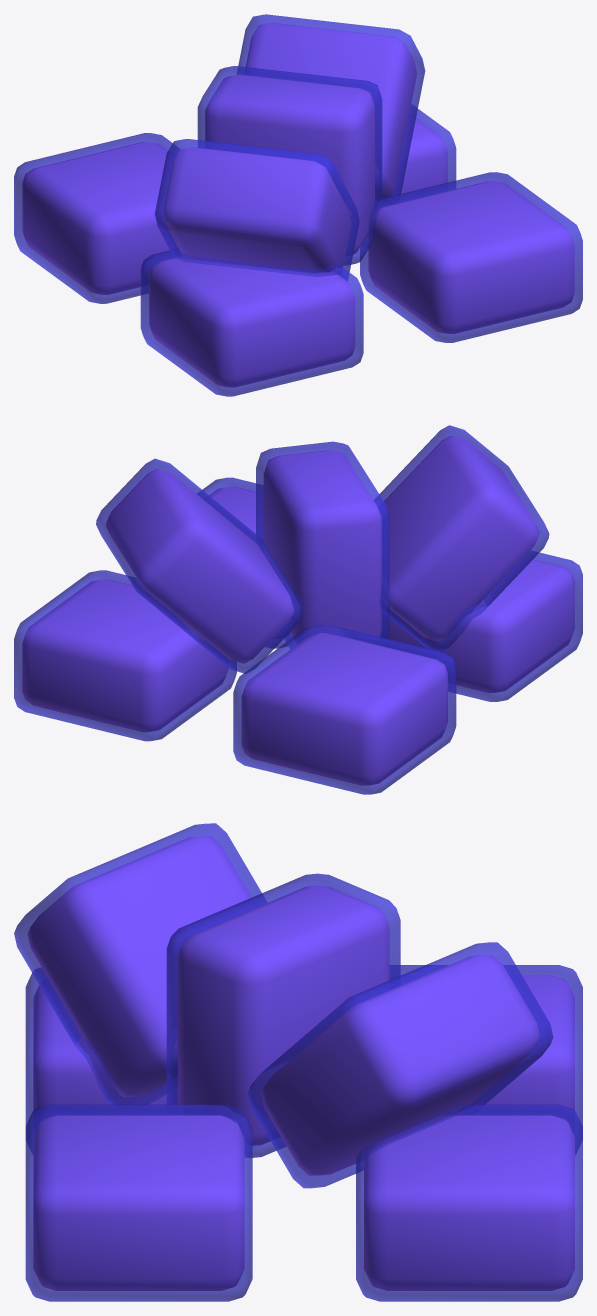
The model's file is ico_cubes.fbx.
The picture shows the model from 3 angles, top to bottom: view 1: azimuth 30°, elevation 25°; view 2: azimuth 150°, elevation 25°; view 3: azimuth 270°, elevation 25°; orthographic projection. The views are drawn at different scales.
Parts seen in each view (by area): view 1: Short_Cube_Jelly_3.001, Short_Cube_Jelly_3, Short_Cube_Jelly_3.003, Short_Cube_Jelly_3.002, Short_Cube_Jelly_3.004, Short_Cube_Jelly_3.005, Short_Cube_Jelly_15; view 2: Short_Cube_Jelly_3.002, Short_Cube_Jelly_15, Short_Cube_Jelly_3.003, Short_Cube_Jelly_3.005, Short_Cube_Jelly_3.004, Short_Cube_Jelly_3, Short_Cube_Jelly_3.001; view 3: Short_Cube_Jelly_3.001, Short_Cube_Jelly_3.005, Short_Cube_Jelly_15, Short_Cube_Jelly_3.004, Short_Cube_Jelly_3.003, Short_Cube_Jelly_3.002, Short_Cube_Jelly_3.
Part boxes in pixels (bbox=[...]): Short_Cube_Jelly_3.001: bbox=[360, 172, 582, 342]; Short_Cube_Jelly_3: bbox=[140, 248, 363, 396]; Short_Cube_Jelly_3.003: bbox=[154, 139, 359, 280]; Short_Cube_Jelly_3.002: bbox=[14, 133, 178, 303]; Short_Cube_Jelly_3.004: bbox=[197, 66, 382, 264]; Short_Cube_Jelly_3.005: bbox=[237, 14, 425, 205]; Short_Cube_Jelly_15: bbox=[392, 105, 456, 202]; Short_Cube_Jelly_3.002: bbox=[233, 624, 456, 794]; Short_Cube_Jelly_15: bbox=[14, 570, 236, 741]; Short_Cube_Jelly_3.003: bbox=[374, 425, 549, 651]; Short_Cube_Jelly_3.005: bbox=[96, 458, 303, 673]; Short_Cube_Jelly_3.004: bbox=[256, 441, 389, 648]; Short_Cube_Jelly_3: bbox=[380, 551, 582, 701]; Short_Cube_Jelly_3.001: bbox=[198, 477, 291, 648]; Short_Cube_Jelly_3.001: bbox=[25, 1104, 252, 1301]; Short_Cube_Jelly_3.005: bbox=[248, 942, 553, 1188]; Short_Cube_Jelly_15: bbox=[356, 1104, 582, 1301]; Short_Cube_Jelly_3.004: bbox=[166, 873, 400, 1157]; Short_Cube_Jelly_3.003: bbox=[14, 823, 266, 1108]; Short_Cube_Jelly_3.002: bbox=[390, 965, 582, 1154]; Short_Cube_Jelly_3: bbox=[25, 968, 177, 1153].
Size of the model in its own units: 121 by 63.73 by 121.
